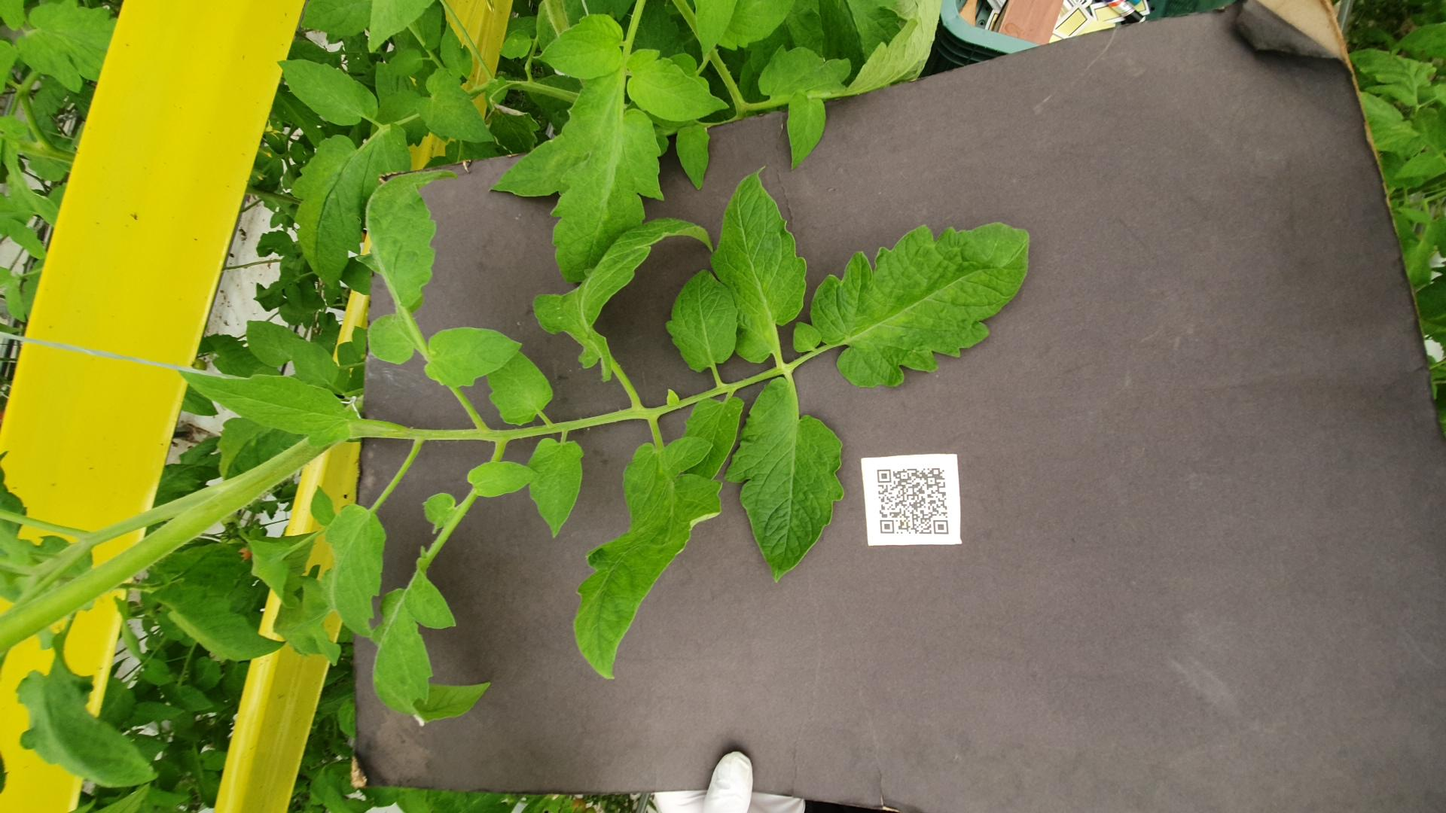Healthy: (233, 321, 668, 409), (752, 454, 1056, 579), (766, 298, 1063, 402), (405, 407, 774, 476), (939, 307, 1310, 374), (931, 163, 1226, 231), (804, 399, 1150, 455), (154, 209, 437, 277), (41, 8, 271, 88), (795, 204, 1146, 256), (650, 99, 782, 200), (272, 83, 414, 163), (309, 182, 550, 219), (779, 373, 970, 417), (1230, 352, 1364, 411), (1222, 154, 1347, 216), (489, 293, 676, 330), (1304, 297, 1427, 351), (1190, 233, 1326, 280), (756, 238, 865, 295), (690, 272, 824, 313), (1139, 440, 1280, 467), (560, 261, 629, 305), (794, 136, 878, 170), (756, 161, 846, 191), (1113, 379, 1226, 401)
